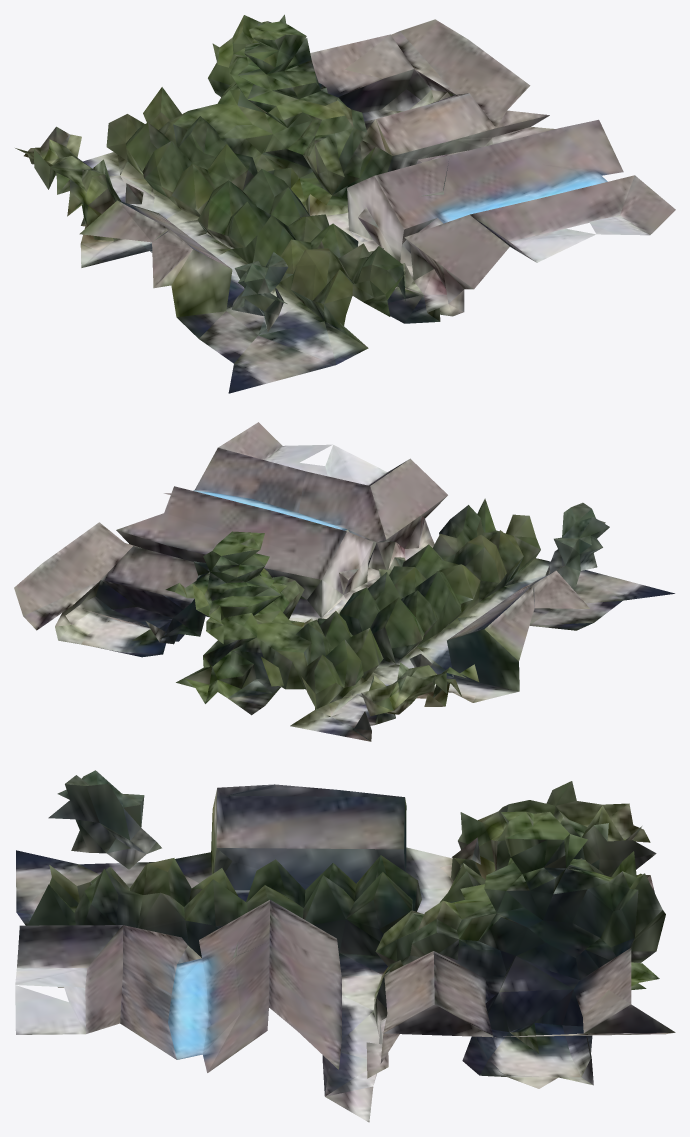
The model's file is Tile_+004_+002.glb.
The picture shows the model from 3 angles, top to bottom: view 1: azimuth 30°, elevation 25°; view 2: azimuth 150°, elevation 25°; view 3: azimuth 270°, elevation 25°; orthographic projection. The views are drawn at different scales.
Parts seen in each view (by area): view 1: rtc; view 2: rtc; view 3: rtc.
Boxes of the visible parts, x1,y1,x2,y2 form: rtc: (15, 14, 675, 393); rtc: (14, 422, 674, 741); rtc: (15, 770, 675, 1122).
Bounding box in the file's own units: 60.36 × 18.47 × 59.47.
Materials: 1 (1 with a texture image).
